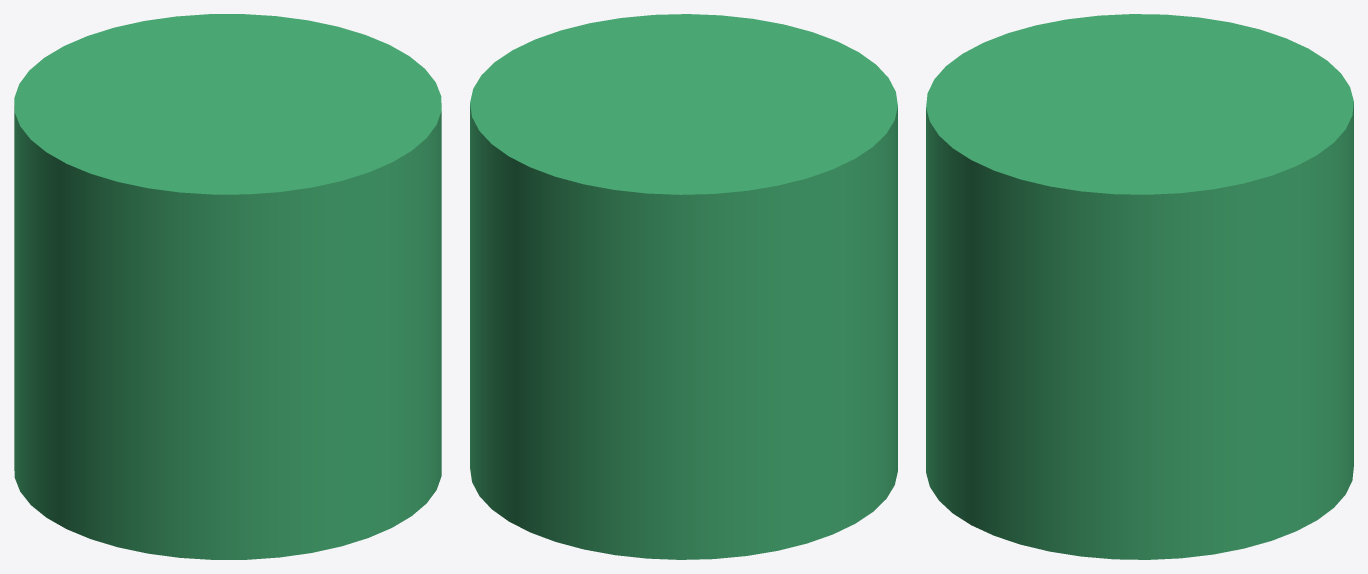
3 views of the same model, side by side, from view 1: azimuth 30°, elevation 25°; view 2: azimuth 150°, elevation 25°; view 3: azimuth 270°, elevation 25° (orthographic).
Visible parts, largest first — view 1: cylinder; view 2: cylinder; view 3: cylinder.
Boxes of the visible parts, left/top/right/bottom form: cylinder: left=14, top=14, right=441, bottom=559; cylinder: left=470, top=14, right=897, bottom=559; cylinder: left=926, top=14, right=1353, bottom=559.
Bounding box in the file's own units: 1.7 × 1.6 × 1.7.
